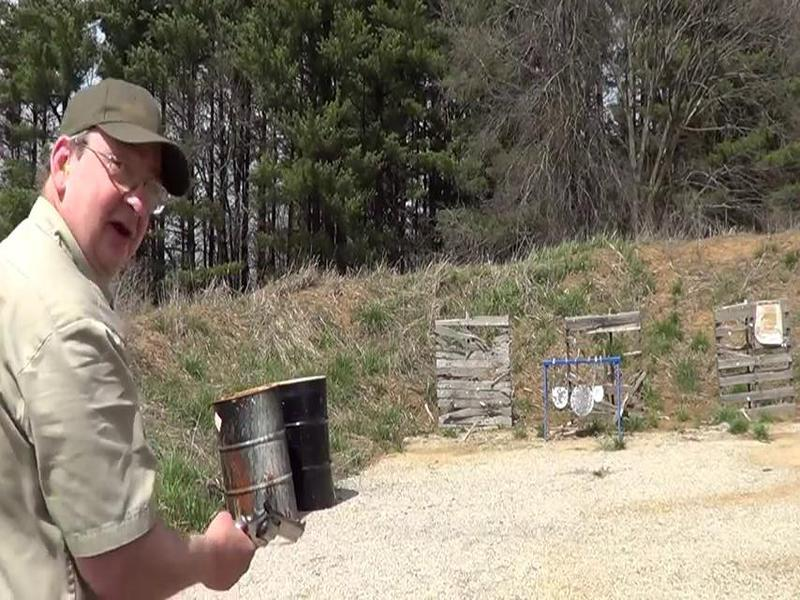Revolver: (214, 492, 319, 572)
